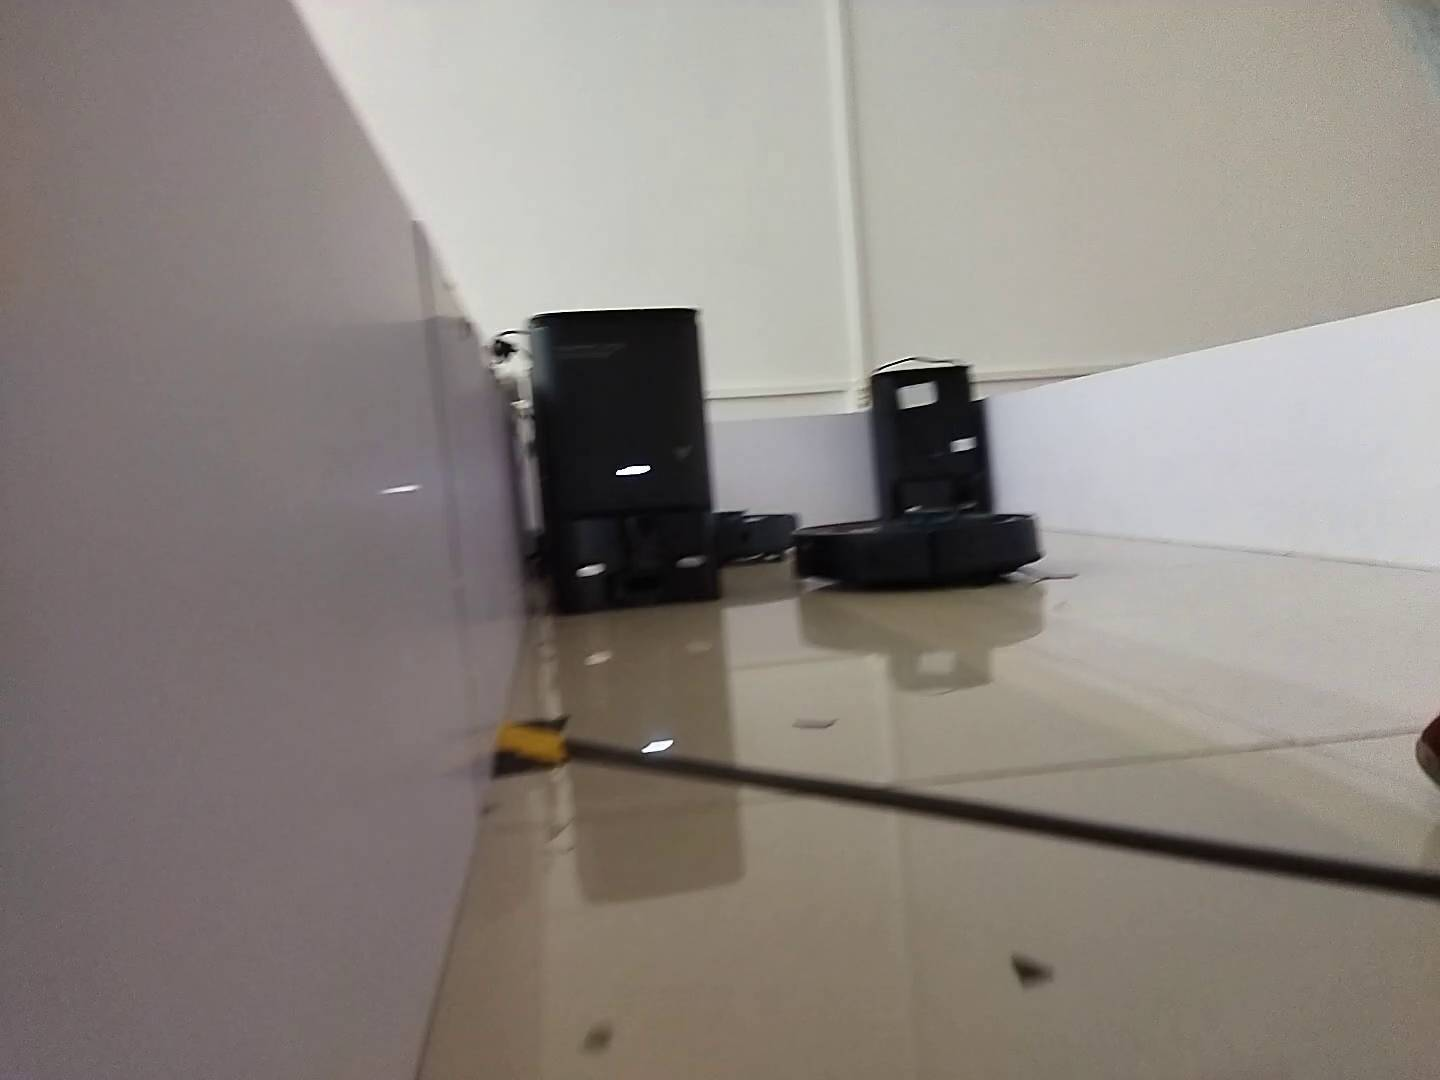dust collecting barrel: (527, 307, 722, 617), (867, 368, 986, 515)
